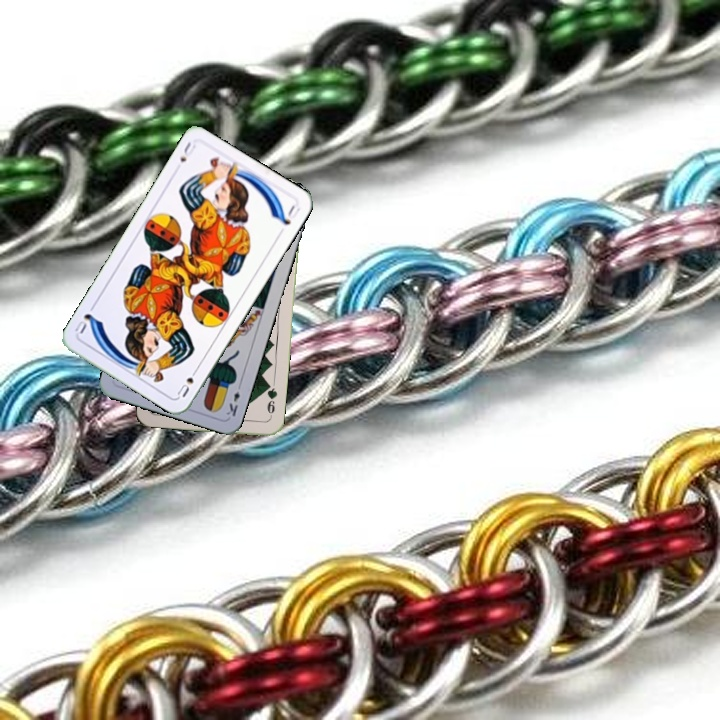EK: (222, 379, 244, 419)
G9: (263, 381, 280, 422)
SU: (173, 363, 201, 400), (176, 137, 199, 165)
